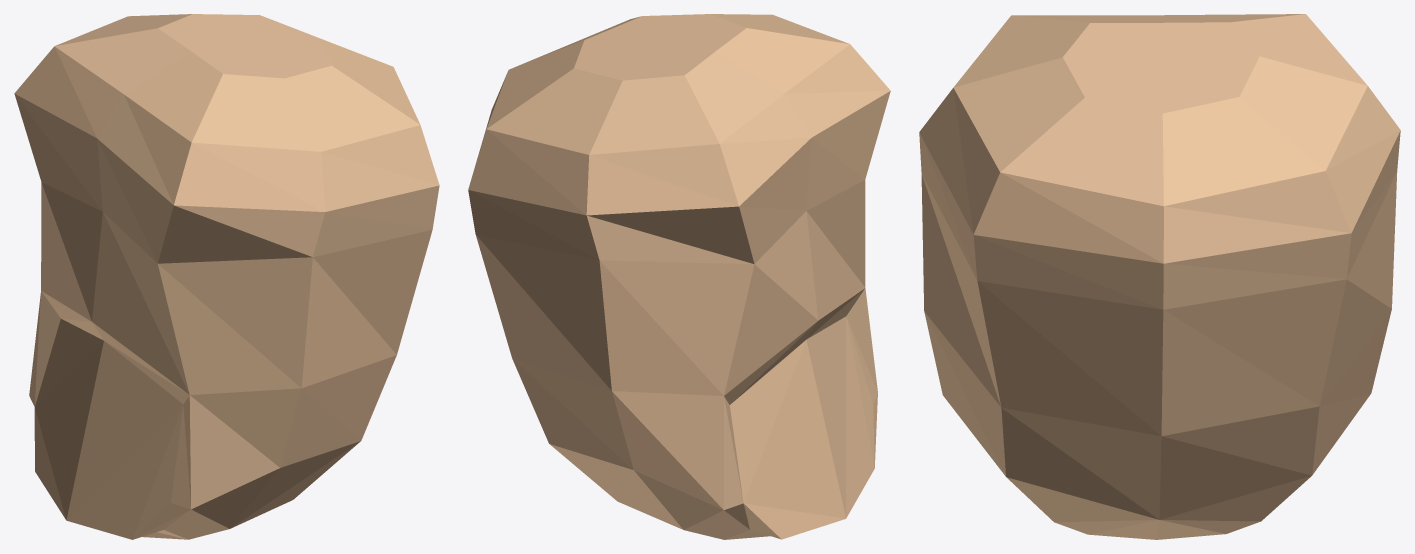
File: RFing12_mesh.dae
3 views of the same model, side by side, from view 1: azimuth 30°, elevation 25°; view 2: azimuth 150°, elevation 25°; view 3: azimuth 270°, elevation 25° (orthographic). The views are drawn at different scales.
Parts seen in each view (by area): view 1: RFing12; view 2: RFing12; view 3: RFing12.
Boxes of the visible parts, left/top/right/bottom form: RFing12: left=14, top=14, right=439, bottom=539; RFing12: left=468, top=14, right=890, bottom=539; RFing12: left=919, top=14, right=1400, bottom=539.
Bounding box in the file's own units: 0.0145 × 0.0185 × 0.0157.
